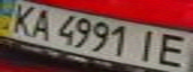1: (106, 22, 133, 58)
4: (48, 12, 78, 46)
9: (87, 19, 112, 54), (69, 16, 93, 51)
A: (24, 7, 57, 40)
E: (151, 32, 193, 70)
I: (130, 27, 166, 63)
K: (0, 2, 42, 35)
